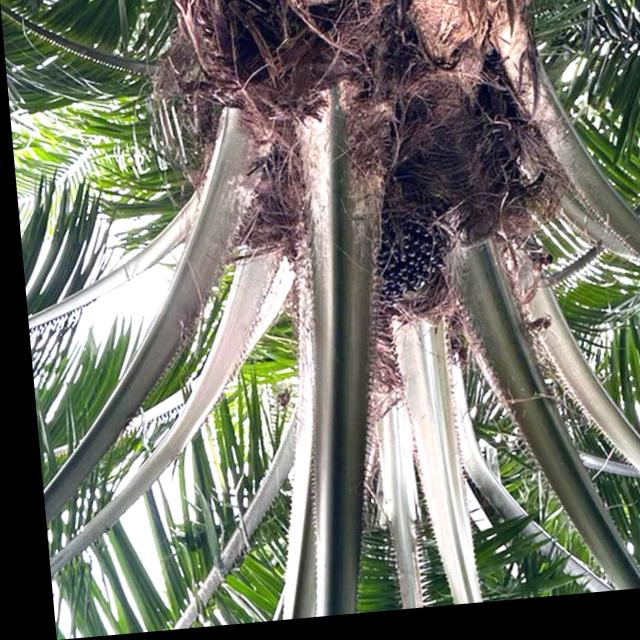unripe: (329, 187, 457, 331)
